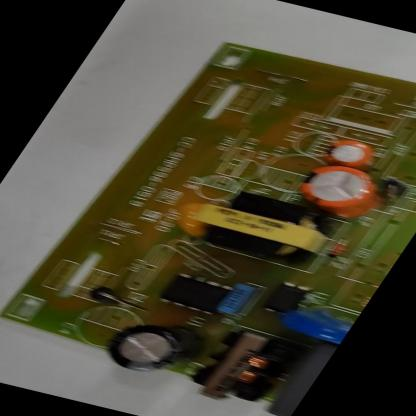Cap1: (288, 161, 396, 223)
Cap2: (321, 136, 382, 172)
Cap3: (98, 316, 210, 379)
MOSFET: (154, 272, 235, 317)
Mov: (277, 306, 355, 345)
Transformer: (188, 186, 346, 267), (181, 326, 301, 408)
